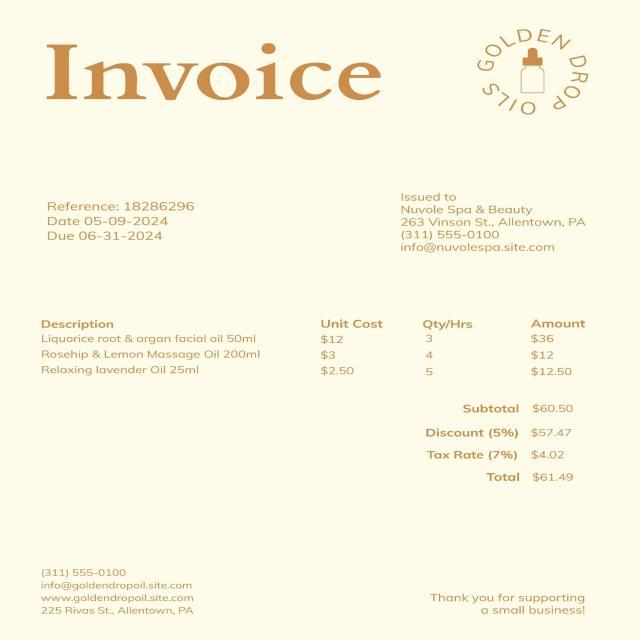ROI: (28, 315, 610, 383), (39, 40, 380, 118), (400, 400, 596, 490), (380, 186, 598, 266), (476, 26, 594, 121), (43, 191, 205, 258), (33, 565, 206, 623), (426, 588, 594, 624)
